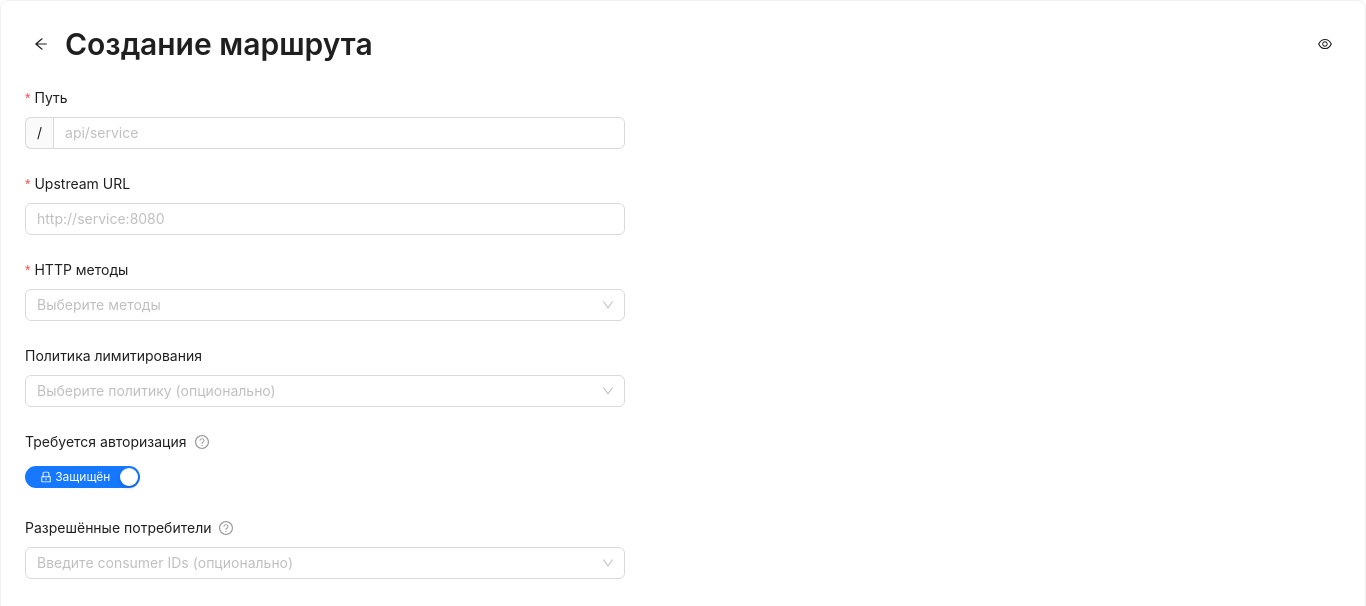
Test: RouteFormPage › WorkflowIndicator (Story 16.10) › показывает WorkflowIndicator при клике на toggle (AC1)
The image size is (1366, 606).
Кликаем на кнопку toggle
What coordinates should you click on to do the following:
click the button with test id "workflow-toggle"
I would click on:
 (1325, 44)
Its box is x1=1309 y1=28 x2=1341 y2=60.
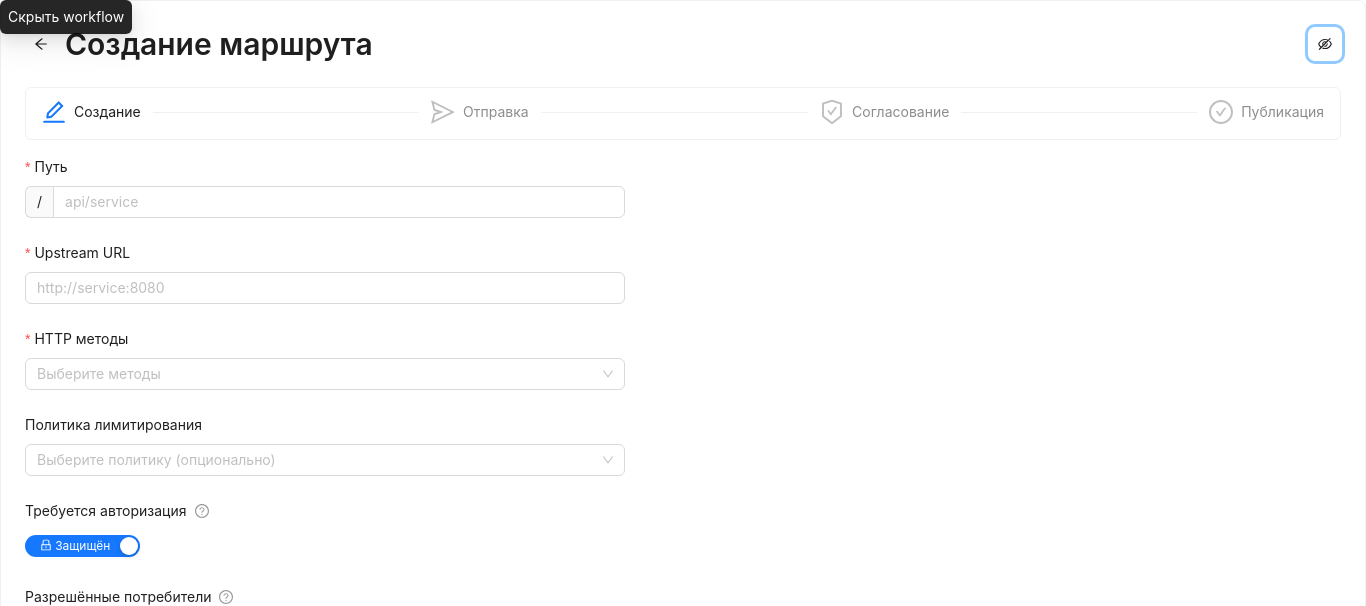
Expected: the element with test id "workflow-indicator" is shown, x1=25 y1=87 x2=1341 y2=140
Expected: the text "Создание" is shown, x1=74 y1=100 x2=153 y2=124
Expected: the text "Отправка" is shown, x1=463 y1=100 x2=541 y2=124
